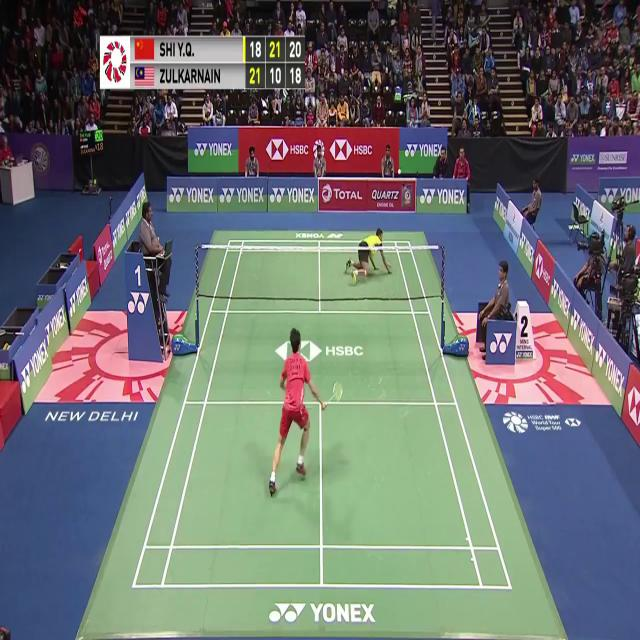Shuttlecock: (395, 168, 402, 179)
